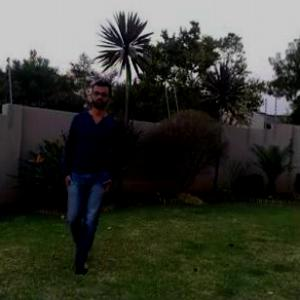follow: (53, 67, 126, 281)
